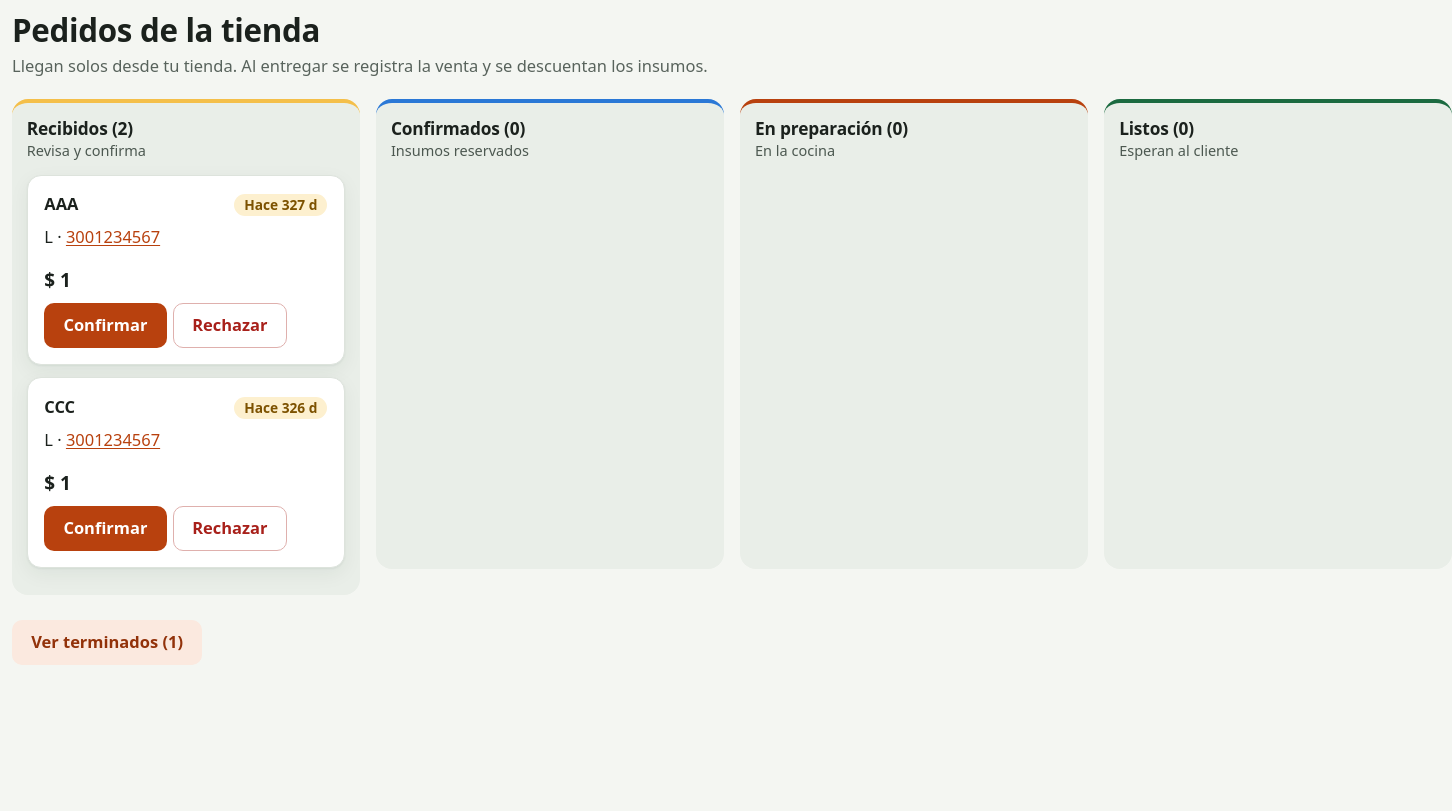
Test: HU-27 Experiencia del cliente (funcionales) › CA-5: el negocio ve los pedidos por columnas y sin los terminados
Expected: the text "BBB" is not shown
Click the button "Ver terminados (1)" at coordinates (107, 642), box [12,620,202,665]
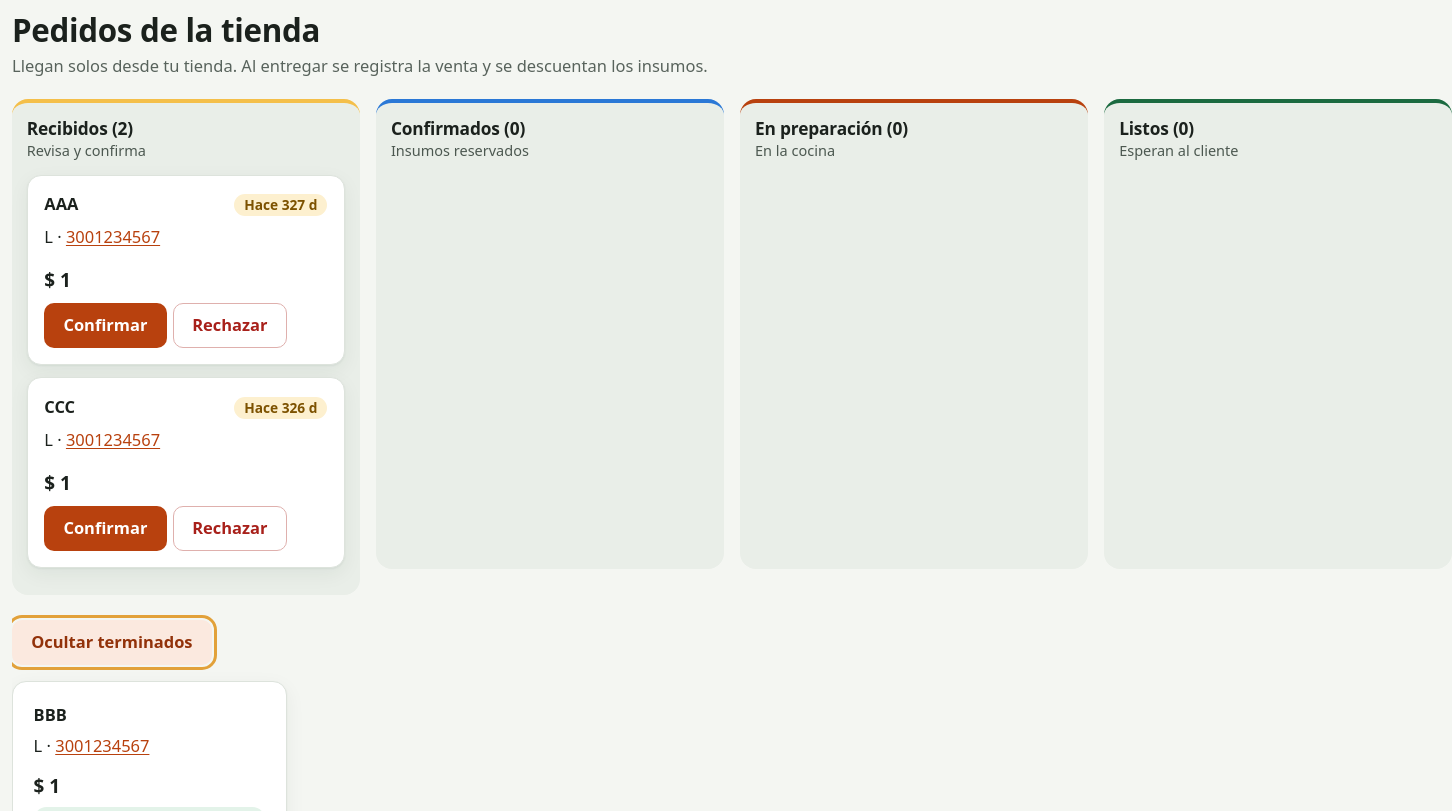
Now the text "BBB" is shown, box [34,703,67,728]
